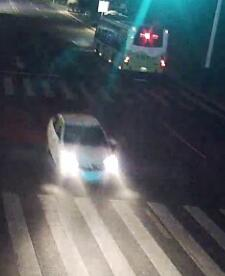bus: (92, 12, 171, 75)
car: (44, 108, 122, 188)
